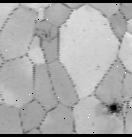good_void: (94, 99, 125, 119), (40, 28, 51, 38), (93, 64, 101, 70)
